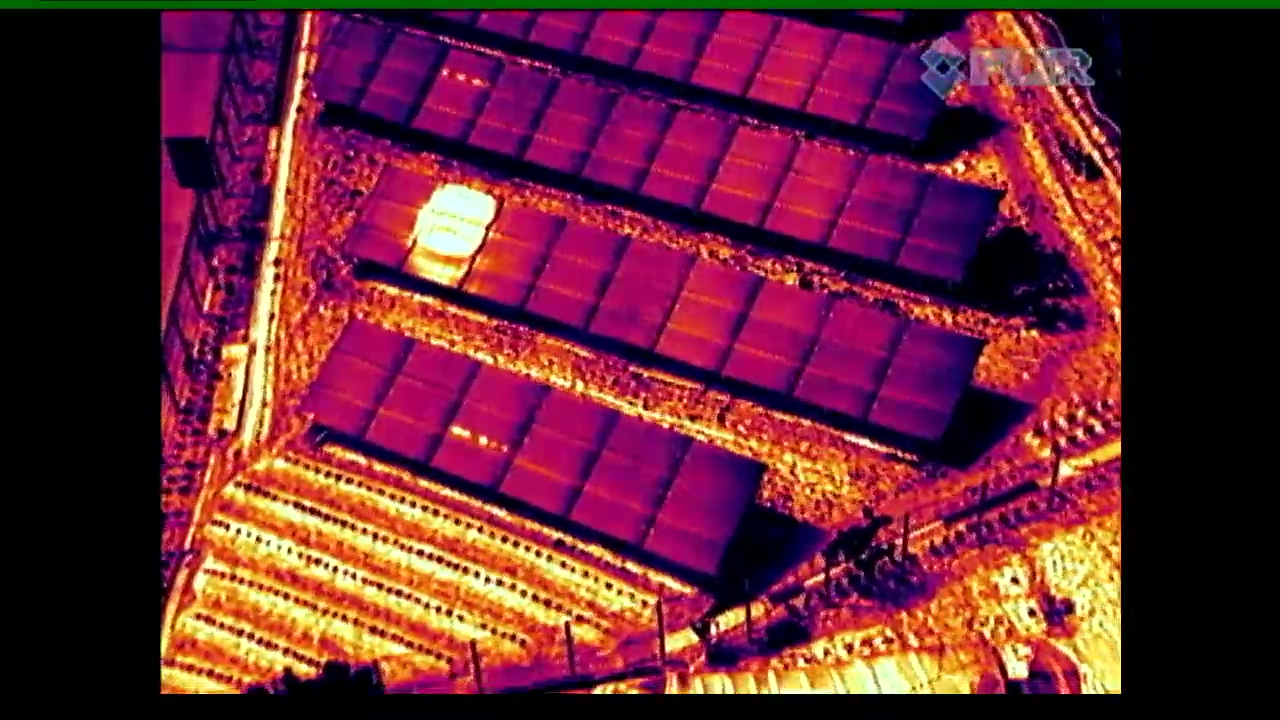hotspot: (426, 362, 545, 500), (409, 47, 504, 136)
